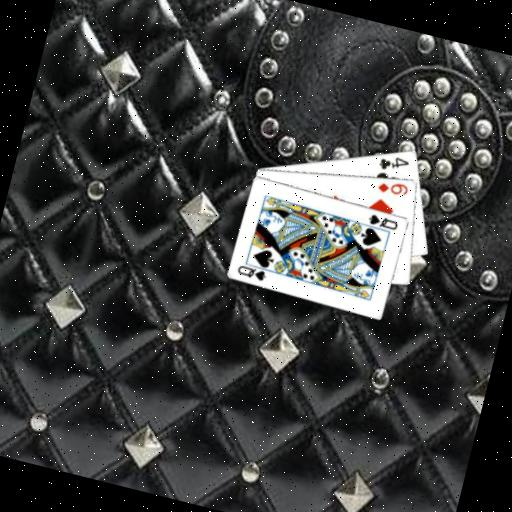4C: (375, 149, 413, 177)
6D: (374, 174, 411, 200)
QS: (364, 210, 401, 233), (234, 261, 269, 283)
